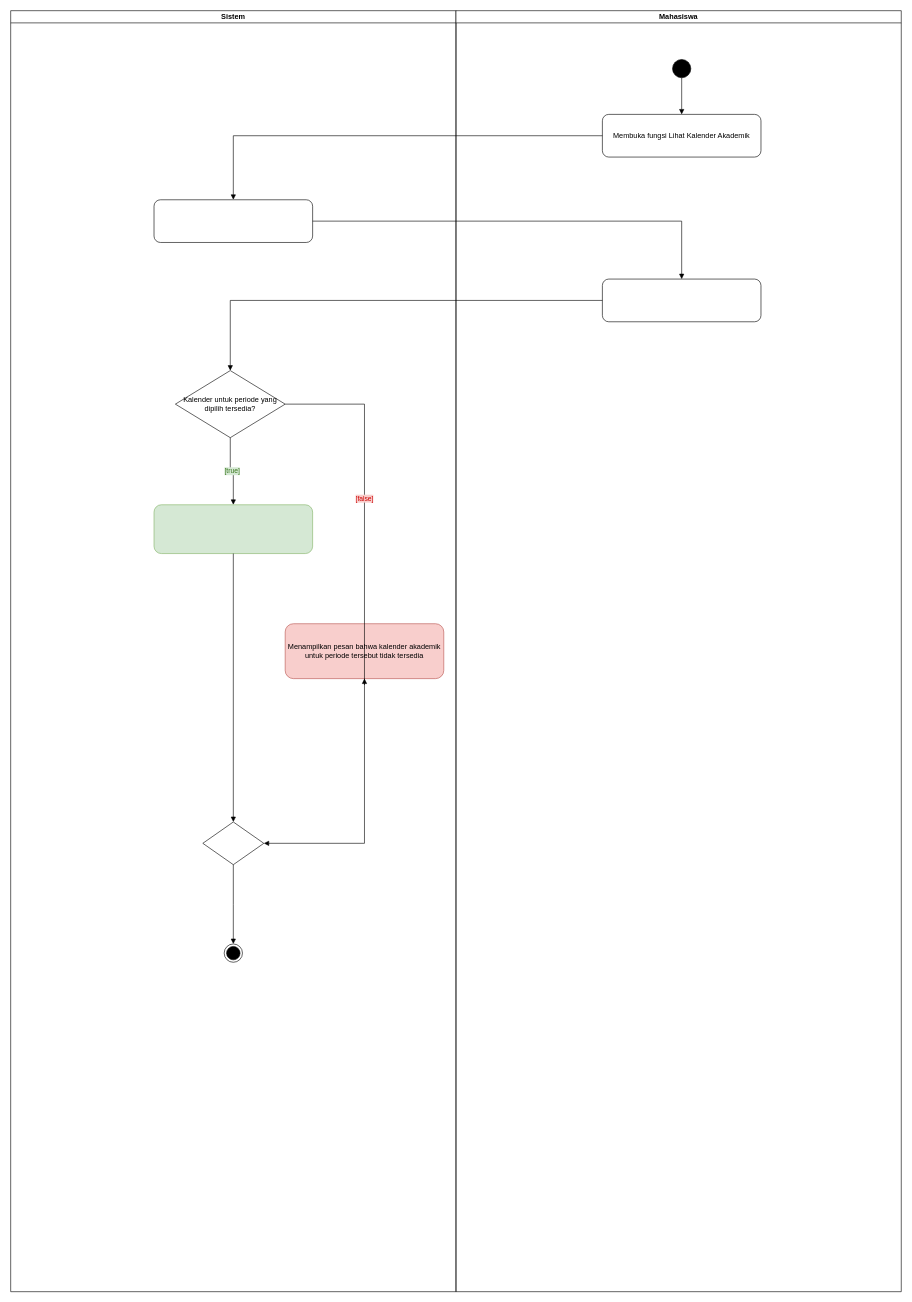
Image size: 912x1302. Some labels were removed from this diagram. The centre of each missing label's shape, as x and y in pixels:
"Memilih periode kalender akademik yang ingin dilihat" goes at (681,300).
"Menampilkan kalender akademik sesuai periode yang dipilih" goes at (233,529).
"Menampilkan kalender akademik yang tersedia" goes at (233,220).
